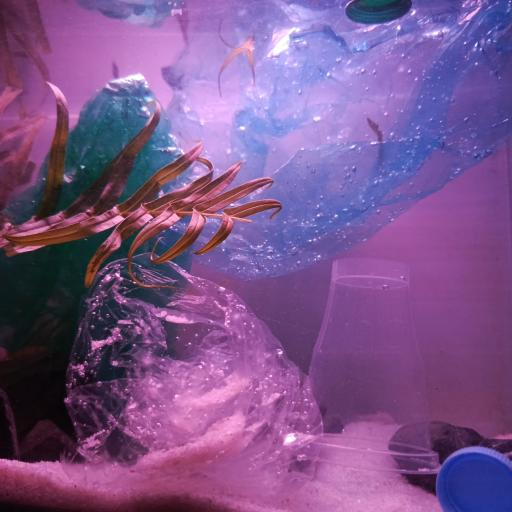bottle_cap: (436, 446, 512, 512), (346, 2, 411, 25)
plastic_bag: (81, 0, 512, 282), (0, 76, 207, 416), (60, 250, 327, 494)
plastic_cup: (300, 256, 442, 474)
